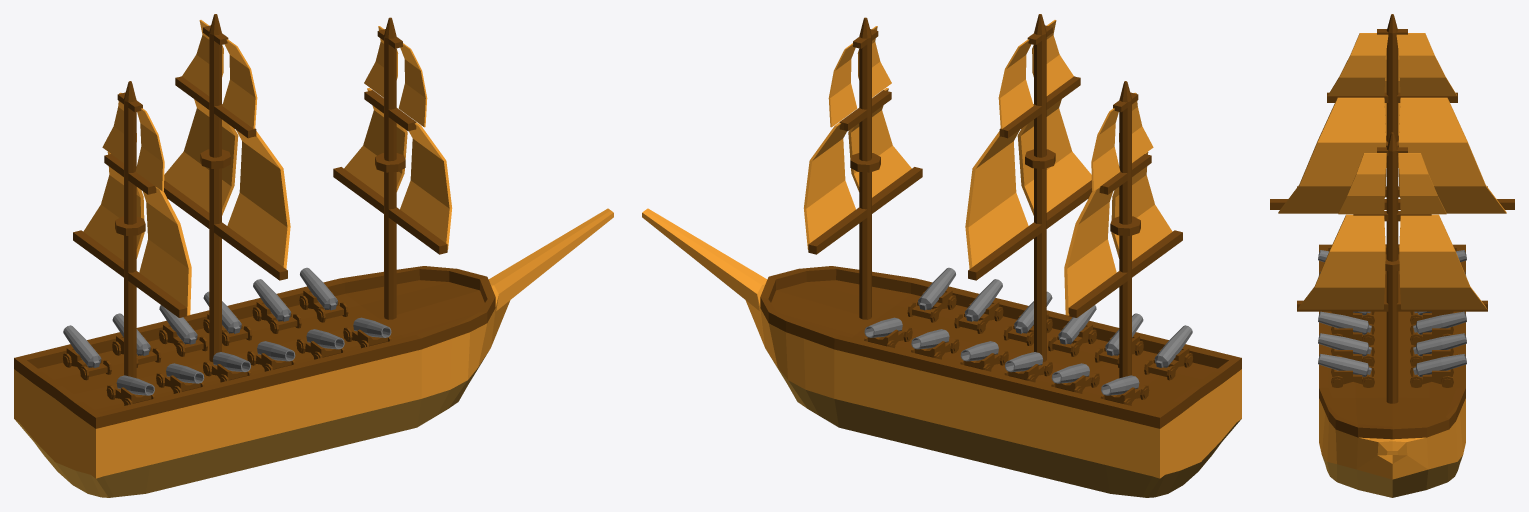
File: Ship_HMS_Unicorn_Frigate.obj
3 renders of one model, left to right at view 1: azimuth 30°, elevation 25°; view 2: azimuth 150°, elevation 25°; view 3: azimuth 270°, elevation 25°, orthographic. The views are drawn at different scales.
Parts seen in each view (by area): view 1: HMS-Unicorn; view 2: HMS-Unicorn; view 3: HMS-Unicorn.
Part boxes in pixels (bbox=[...]): HMS-Unicorn: bbox=[14, 14, 613, 497]; HMS-Unicorn: bbox=[642, 14, 1241, 497]; HMS-Unicorn: bbox=[1270, 14, 1514, 497].
Bounding box in the file's own units: 4.68 × 3.63 × 1.99.
1 material, 1 textured.
